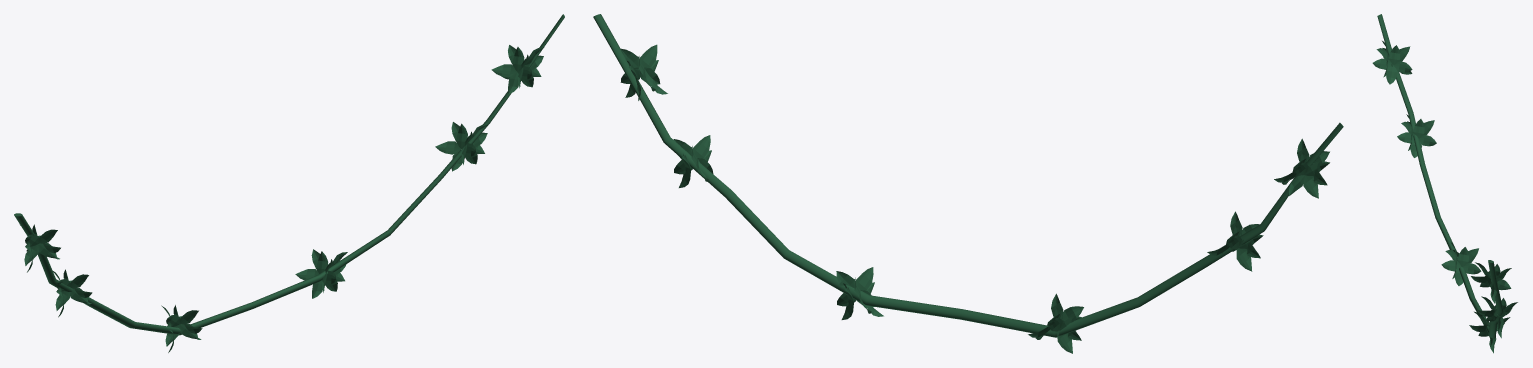
Rendered from Liana1.fbx.
3 views of the same model, side by side, from view 1: azimuth 30°, elevation 25°; view 2: azimuth 150°, elevation 25°; view 3: azimuth 270°, elevation 25° (orthographic). The views are drawn at different scales.
Parts seen in each view (by area): view 1: BézierCurve.001; view 2: BézierCurve.001; view 3: BézierCurve.001.
Boxes of the visible parts, x1=… form: BézierCurve.001: x1=14, y1=14, x2=564, y2=352; BézierCurve.001: x1=593, y1=14, x2=1343, y2=353; BézierCurve.001: x1=1372, y1=14, x2=1517, y2=353.
Size of the model in its own units: 1438 by 497 by 358.
